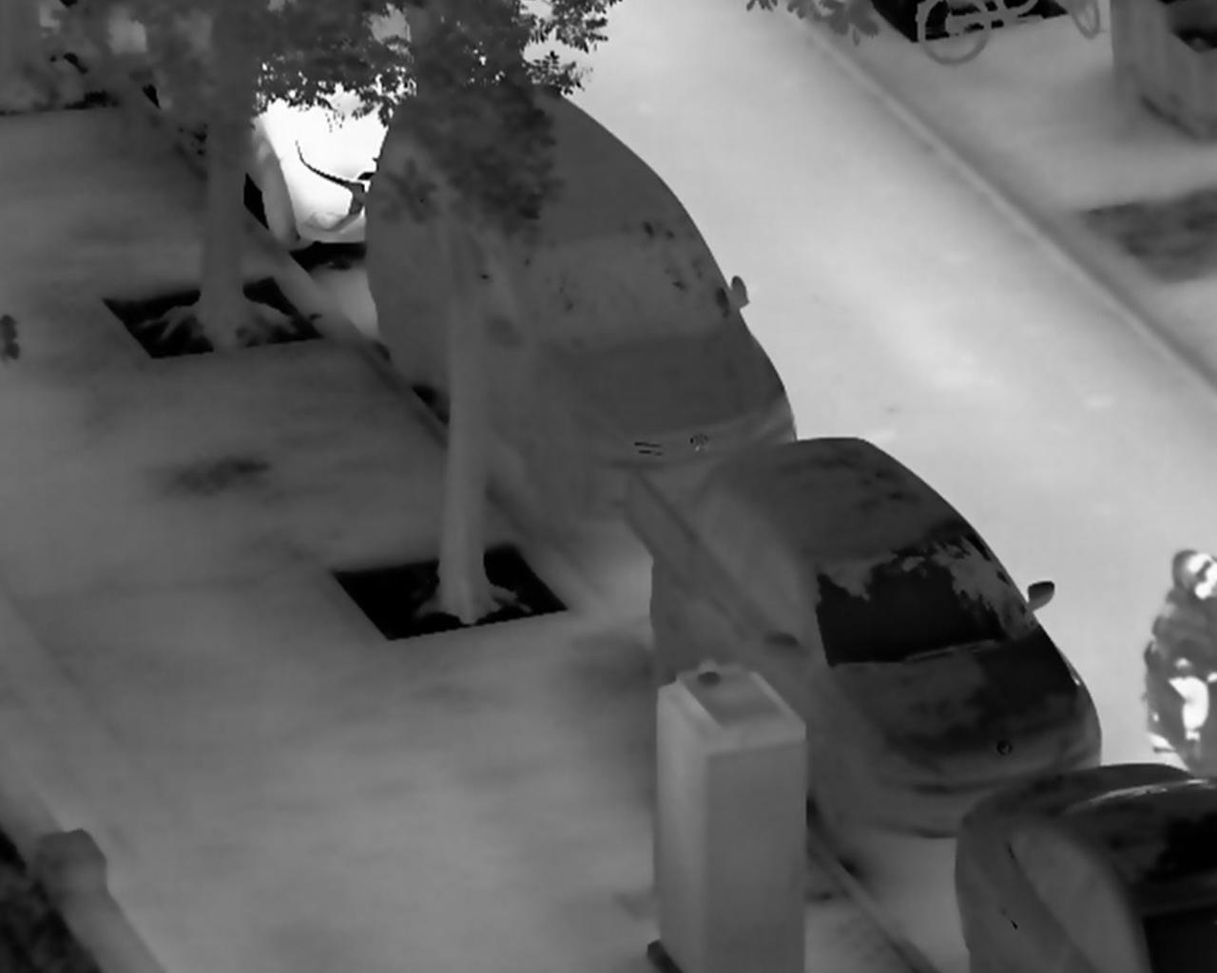person: (1146, 547, 1217, 766)
